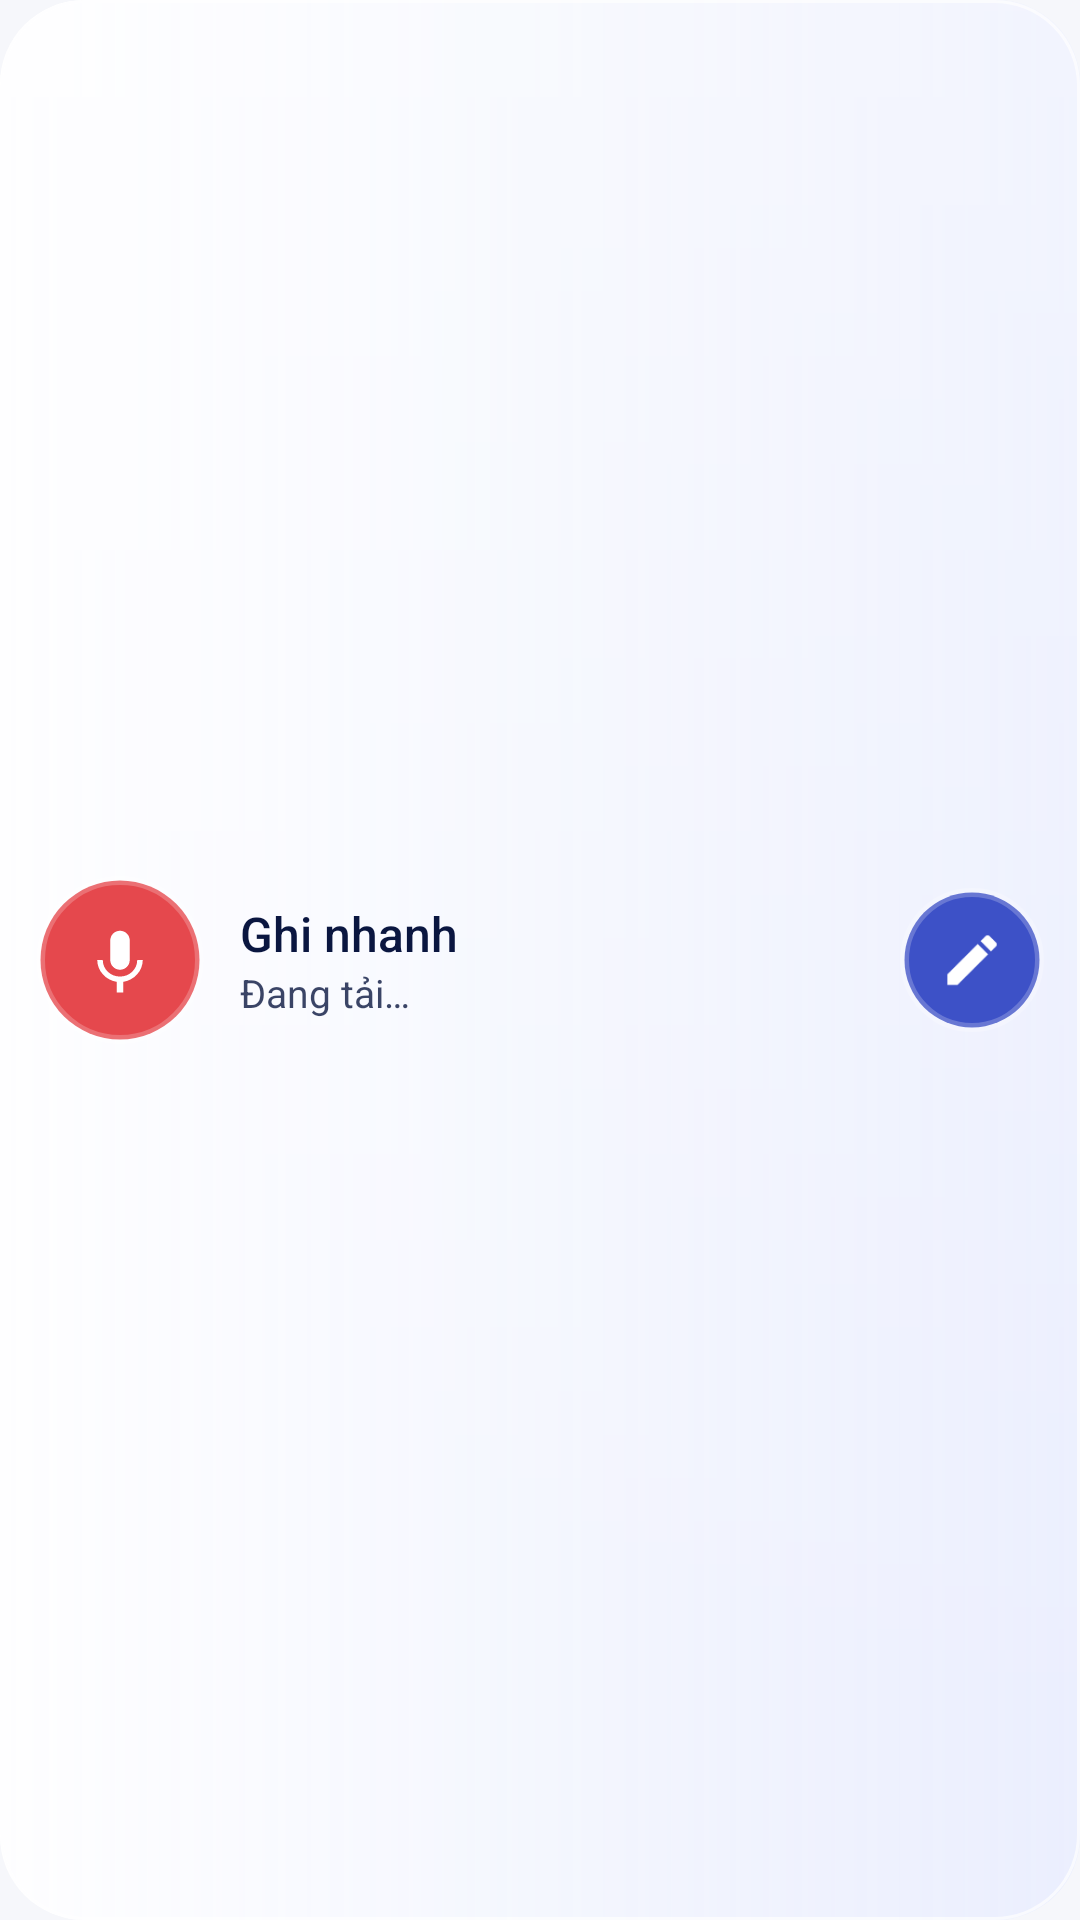

Locate icon controls on the screen. Image size 1080 x 1920, boxes as (x1, y1, x2, y2).
edit: (947, 935, 997, 986)
mic: (97, 930, 143, 993)
